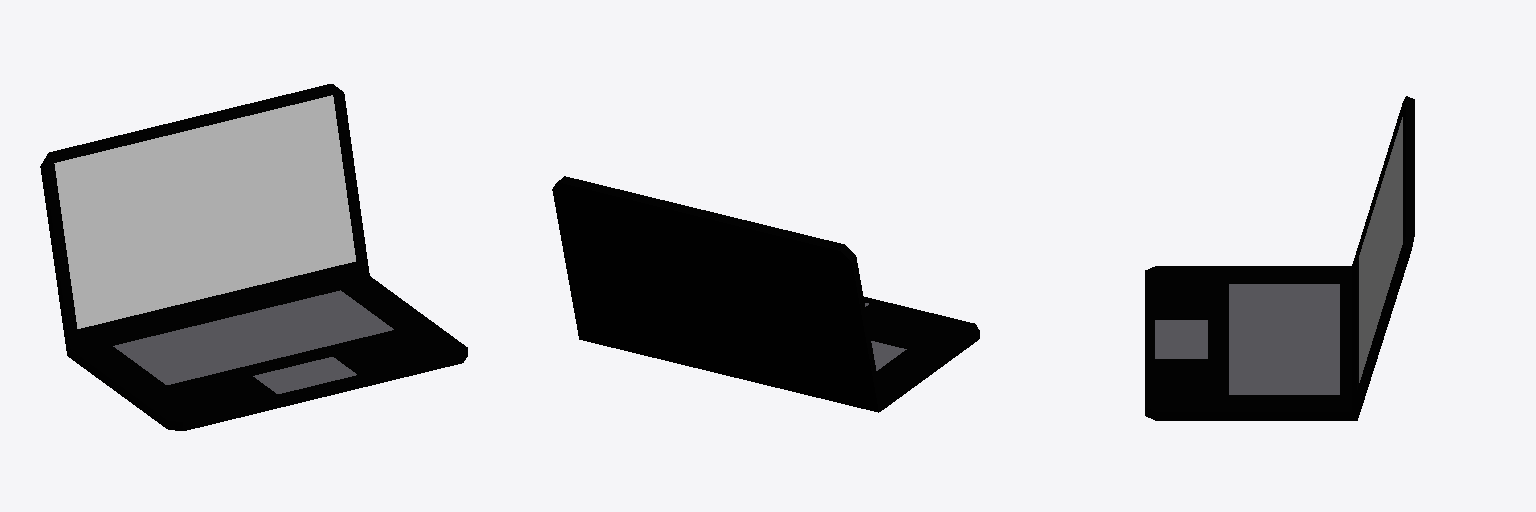
Rendered from laptop.obj.
3 renders of one model, left to right at view 1: azimuth 30°, elevation 25°; view 2: azimuth 150°, elevation 25°; view 3: azimuth 270°, elevation 25°, orthographic.
Visible parts, largest first — view 1: laptop; view 2: laptop; view 3: laptop.
Part boxes in pixels (x1,y1,x2,y2): laptop: (40,84,467,430); laptop: (552,176,979,412); laptop: (1145,96,1414,420).
Bounding box in the file's own units: 0.4524 × 0.2651 × 0.3522.